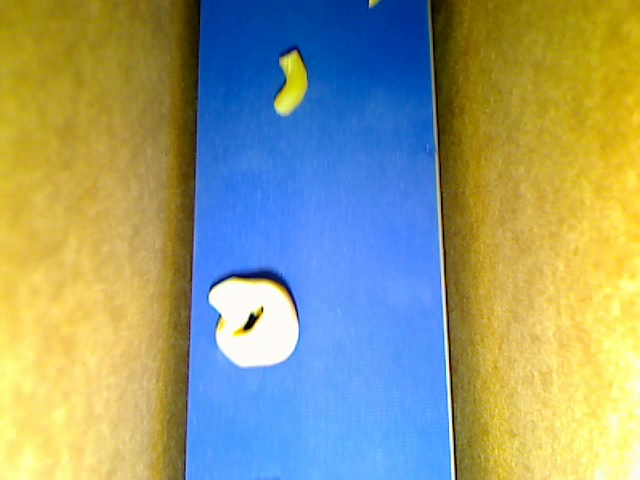elbow: (273, 48, 308, 116)
tortellini: (209, 275, 299, 368)
